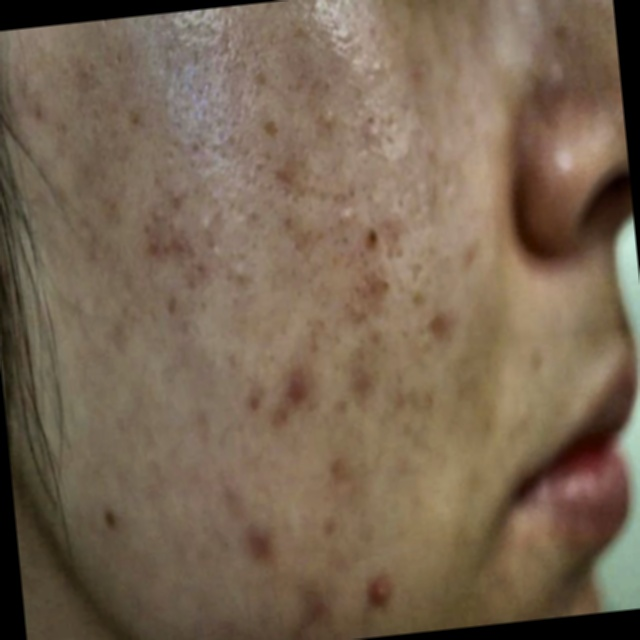comedone: (264, 361, 329, 436), (351, 554, 407, 637), (227, 500, 282, 574), (290, 572, 346, 640)
